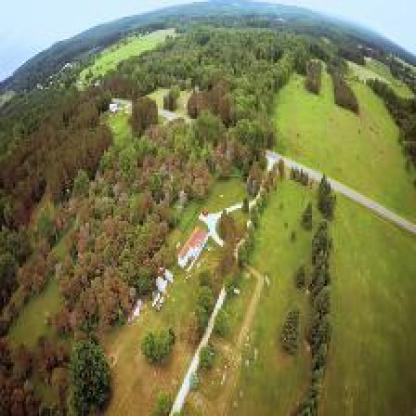other: (182, 194, 260, 412)
